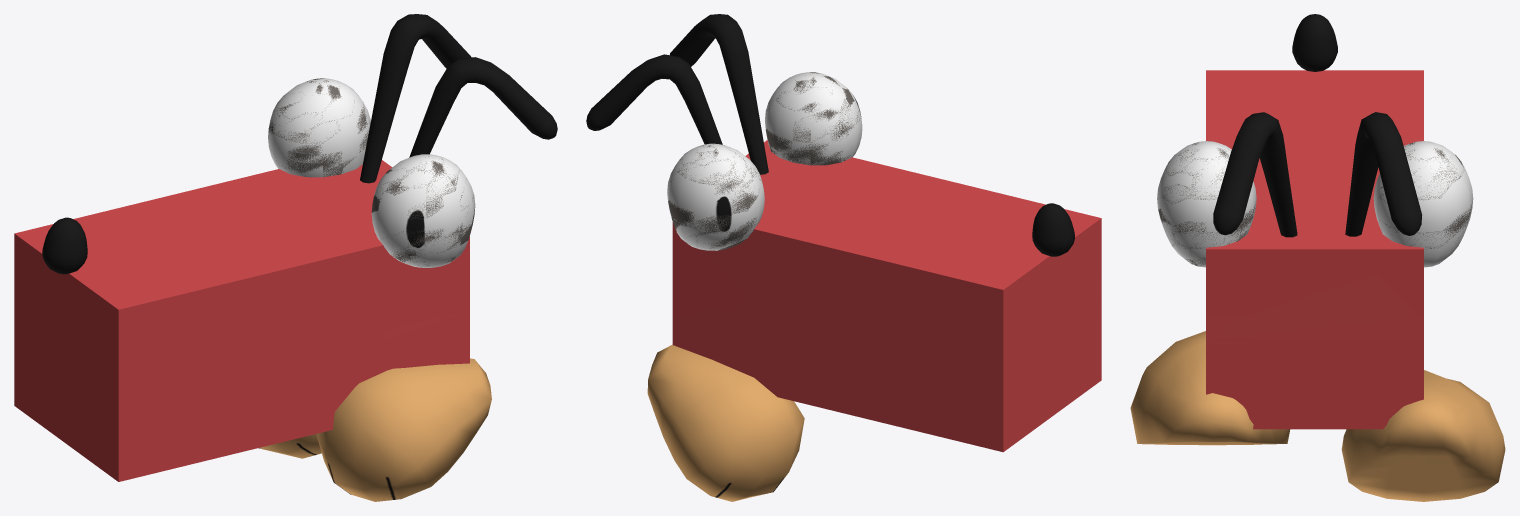
File: BOXDOG_02_1.fbx
3 views of the same model, side by side, from view 1: azimuth 30°, elevation 25°; view 2: azimuth 150°, elevation 25°; view 3: azimuth 270°, elevation 25° (orthographic). The views are drawn at different scales.
Visible parts, largest first — view 1: uwaago, sitaago, asi1, eye_L, eye_R, mimi3, mimi2, hana, uwamabuta_L1, uwamabuta_R1, sitamabuta_R1, sitamabuta_L1 (+1 smaller); view 2: uwaago, sitaago, asi2, eye_R, eye_L, mimi2, mimi3, tunagi, hana, sitamabuta_R1, uwamabuta_L1, sitamabuta_L1 (+1 smaller); view 3: uwaago, tunagi, asi2, sitaago, asi1, eye_L, eye_R, mimi2, mimi3, hana, sitamabuta_L1, sitamabuta_R1 (+2 smaller).
Part boxes in pixels (x1=…): uwaago: x1=14, y1=160, x2=469, y2=419; sitaago: x1=14, y1=289, x2=469, y2=481; asi1: x1=316, y1=358, x2=491, y2=501; eye_L: x1=371, y1=154, x2=475, y2=267; eye_R: x1=268, y1=78, x2=370, y2=177; mimi3: x1=360, y1=14, x2=471, y2=183; mimi2: x1=409, y1=57, x2=557, y2=157; hana: x1=42, y1=217, x2=87, y2=274; uwamabuta_L1: x1=371, y1=156, x2=473, y2=219; uwamabuta_R1: x1=268, y1=78, x2=370, y2=154; sitamabuta_R1: x1=283, y1=139, x2=367, y2=176; sitamabuta_L1: x1=383, y1=209, x2=474, y2=267; uwaago: x1=702, y1=140, x2=1101, y2=392; sitaago: x1=672, y1=281, x2=1101, y2=452; asi2: x1=647, y1=344, x2=804, y2=501; eye_R: x1=667, y1=143, x2=764, y2=250; eye_L: x1=765, y1=72, x2=862, y2=165; mimi2: x1=670, y1=14, x2=768, y2=174; mimi3: x1=586, y1=54, x2=722, y2=144; tunagi: x1=672, y1=222, x2=745, y2=357; hana: x1=1032, y1=203, x2=1074, y2=256; sitamabuta_R1: x1=668, y1=200, x2=756, y2=250; uwamabuta_L1: x1=766, y1=72, x2=861, y2=142; sitamabuta_L1: x1=765, y1=129, x2=849, y2=165; uwaago: x1=1206, y1=70, x2=1423, y2=317; tunagi: x1=1206, y1=246, x2=1423, y2=417; asi2: x1=1341, y1=370, x2=1505, y2=501; sitaago: x1=1206, y1=317, x2=1423, y2=429; asi1: x1=1130, y1=331, x2=1290, y2=445; eye_L: x1=1157, y1=141, x2=1256, y2=267; eye_R: x1=1373, y1=141, x2=1473, y2=267; mimi2: x1=1213, y1=112, x2=1297, y2=237; mimi3: x1=1345, y1=112, x2=1421, y2=236; hana: x1=1292, y1=14, x2=1337, y2=71; sitamabuta_L1: x1=1158, y1=203, x2=1255, y2=266; sitamabuta_R1: x1=1385, y1=201, x2=1472, y2=249.
Bounding box in the file's own units: 57.08 × 49.33 × 37.76.
